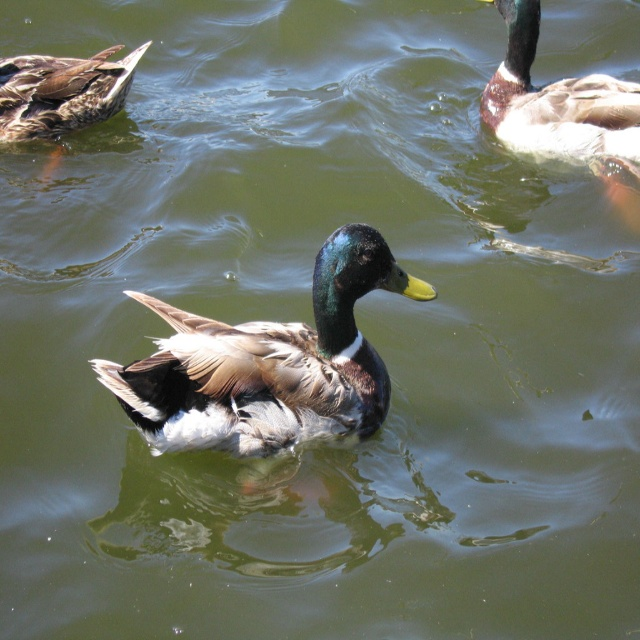Duck: (89, 226, 437, 499), (473, 0, 640, 236), (0, 41, 151, 184)
